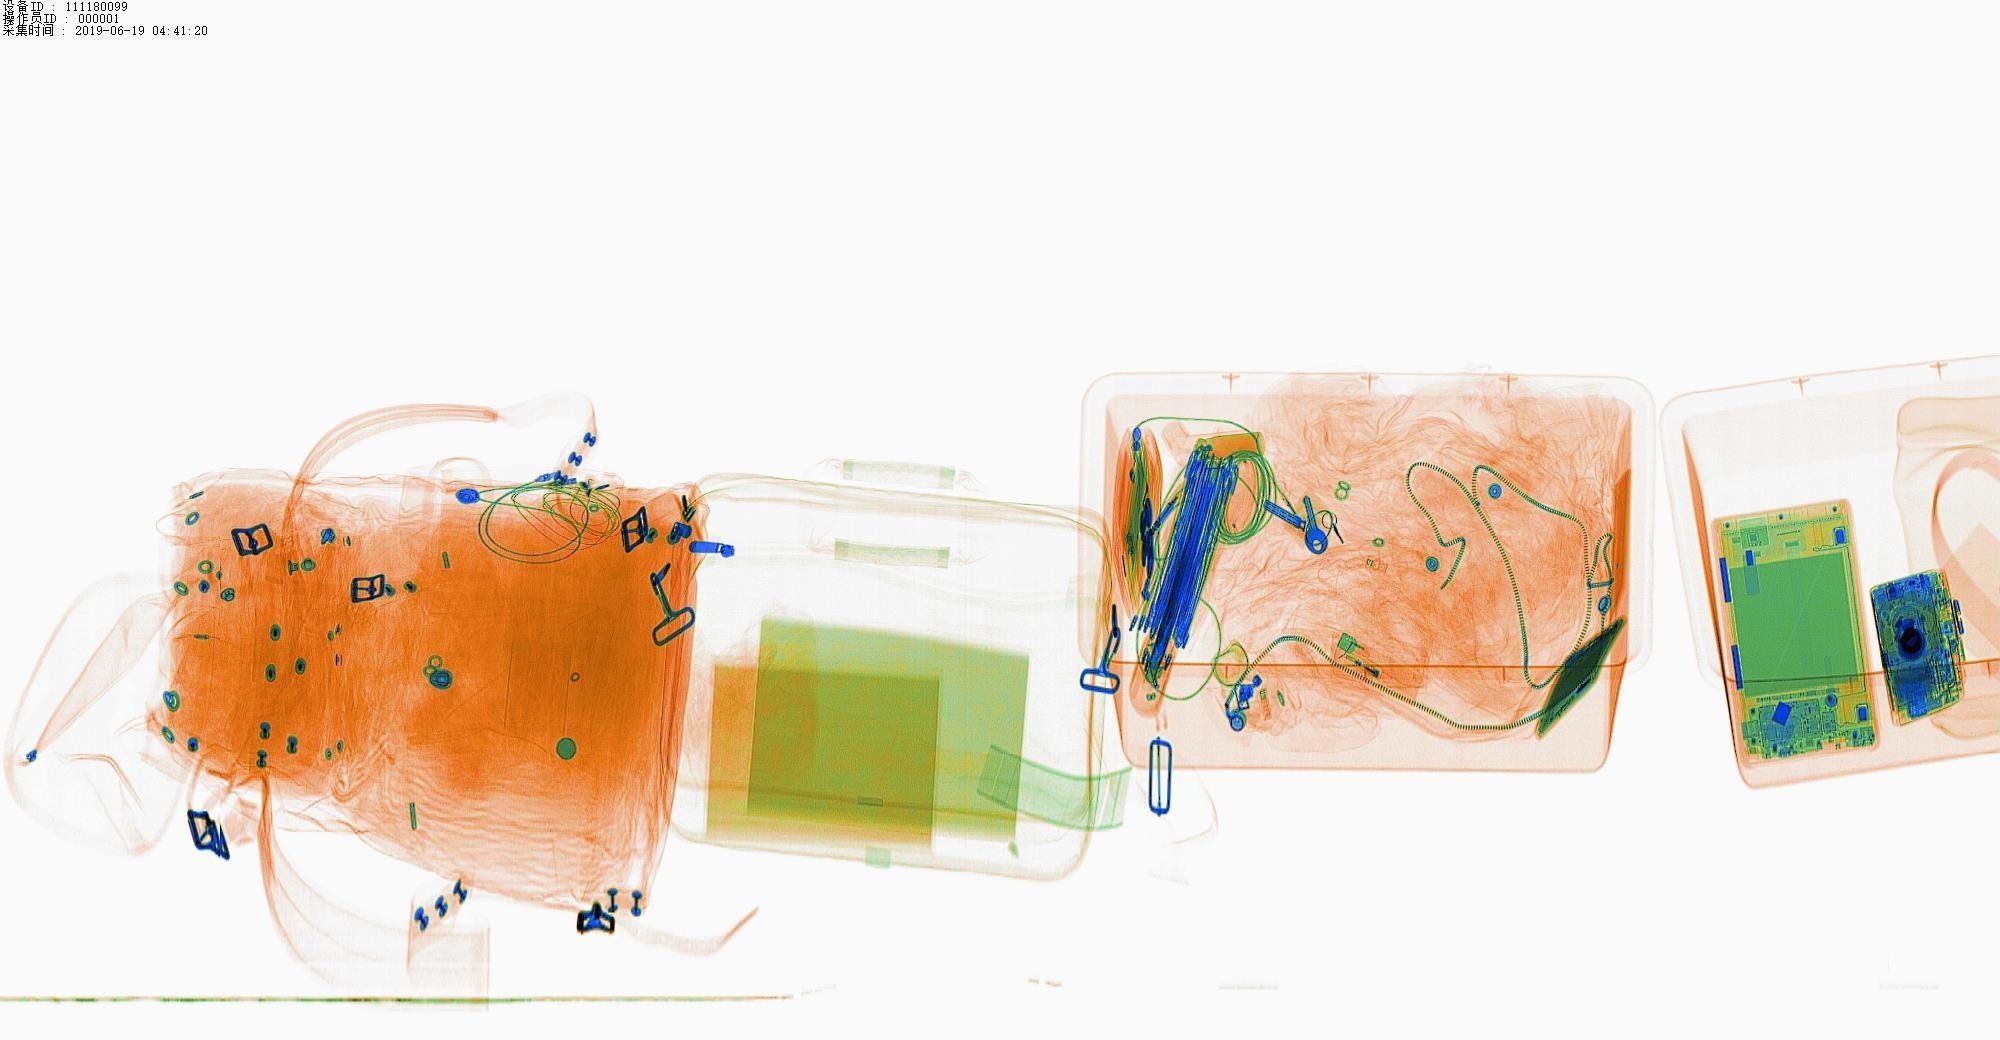NonmetallicFire: (1324, 626, 1425, 722)
